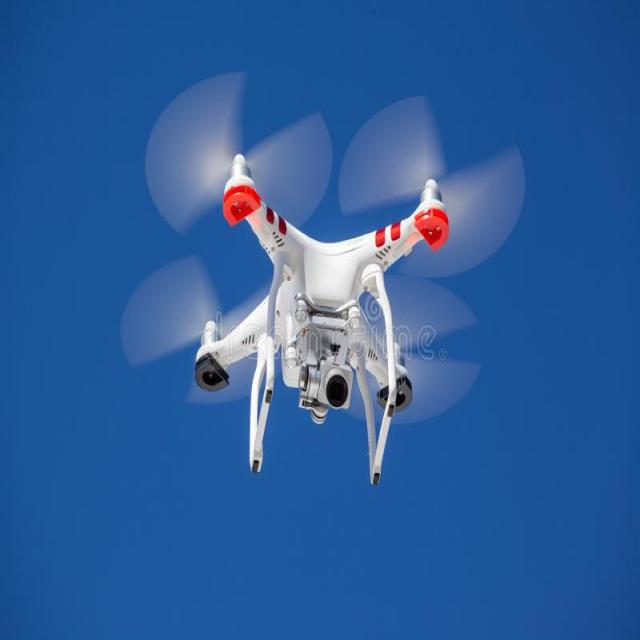drone: (117, 71, 527, 488)
